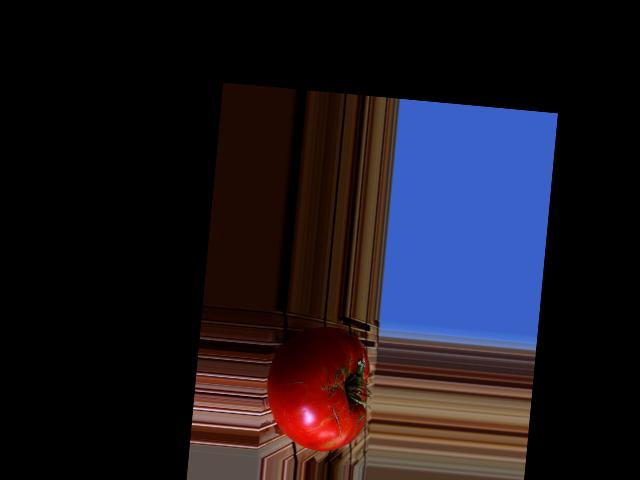tomato: (263, 321, 373, 454)
